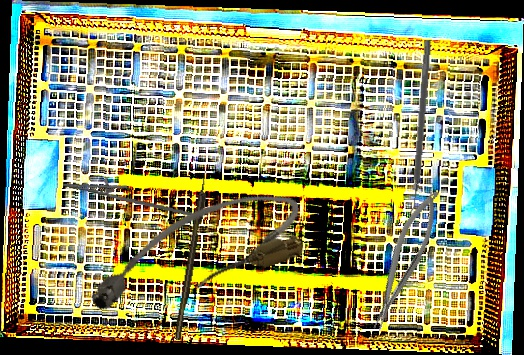Cannula: (75, 178, 314, 325)
Hook Surgical: (173, 170, 211, 341)
Needle Holder: (358, 184, 451, 335), (60, 171, 202, 219)
Spatula Surgical: (404, 39, 432, 214)
